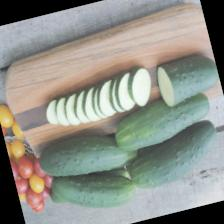cucumber: (119, 117, 224, 192), (108, 89, 214, 153), (33, 124, 130, 186), (47, 157, 137, 220), (152, 48, 222, 108)
